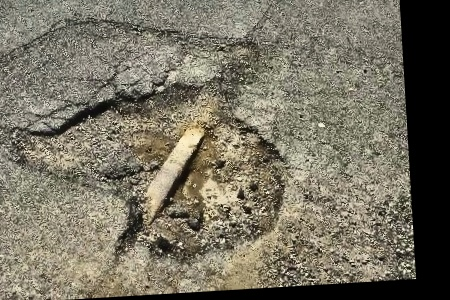pothole: (7, 72, 297, 276)
